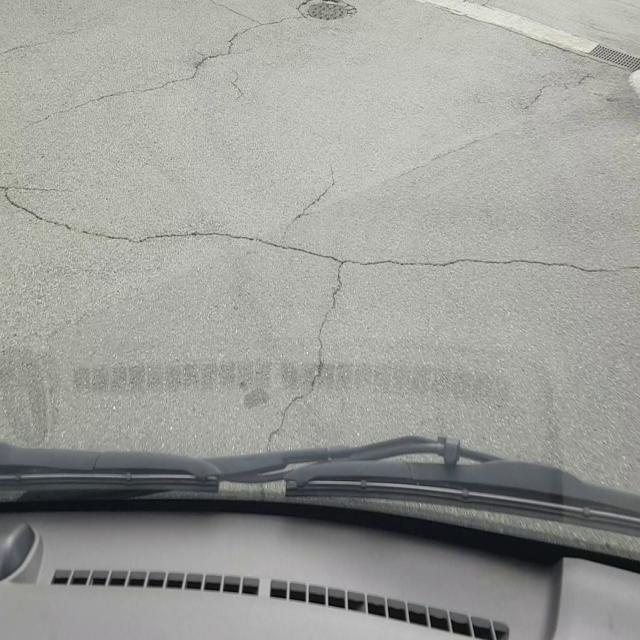Pothole: (296, 0, 357, 22)
